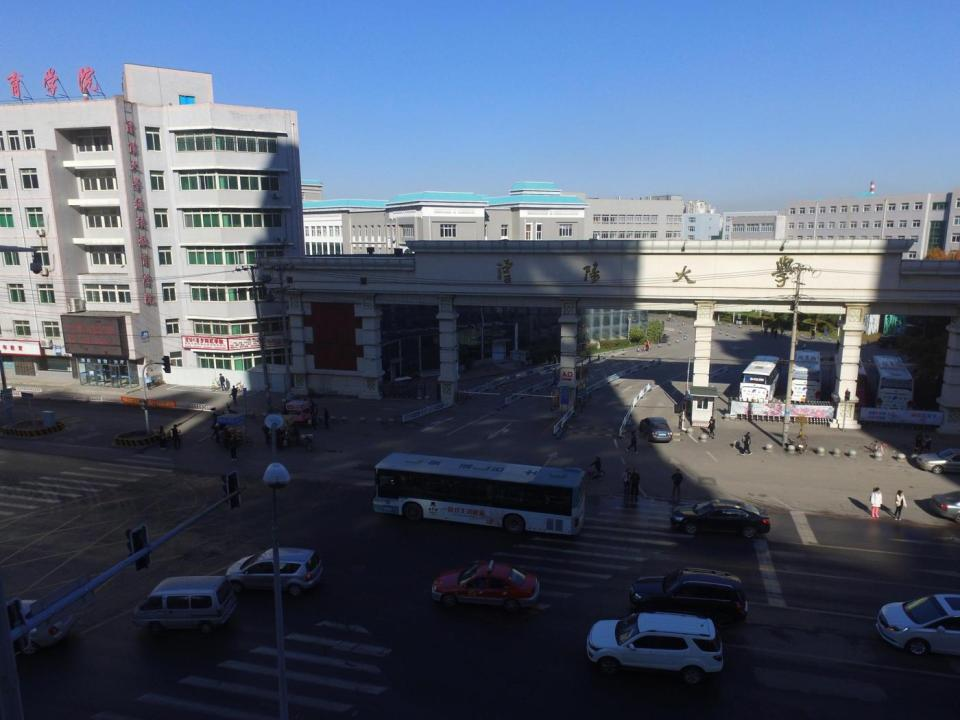bus: (370, 450, 586, 539), (740, 352, 780, 404), (791, 349, 824, 409)
car: (588, 614, 736, 679), (628, 565, 750, 630), (873, 586, 960, 658), (429, 560, 541, 612), (228, 544, 326, 598), (0, 598, 80, 656), (669, 496, 774, 539), (916, 446, 960, 474), (639, 413, 673, 444)
van: (130, 575, 240, 637)
